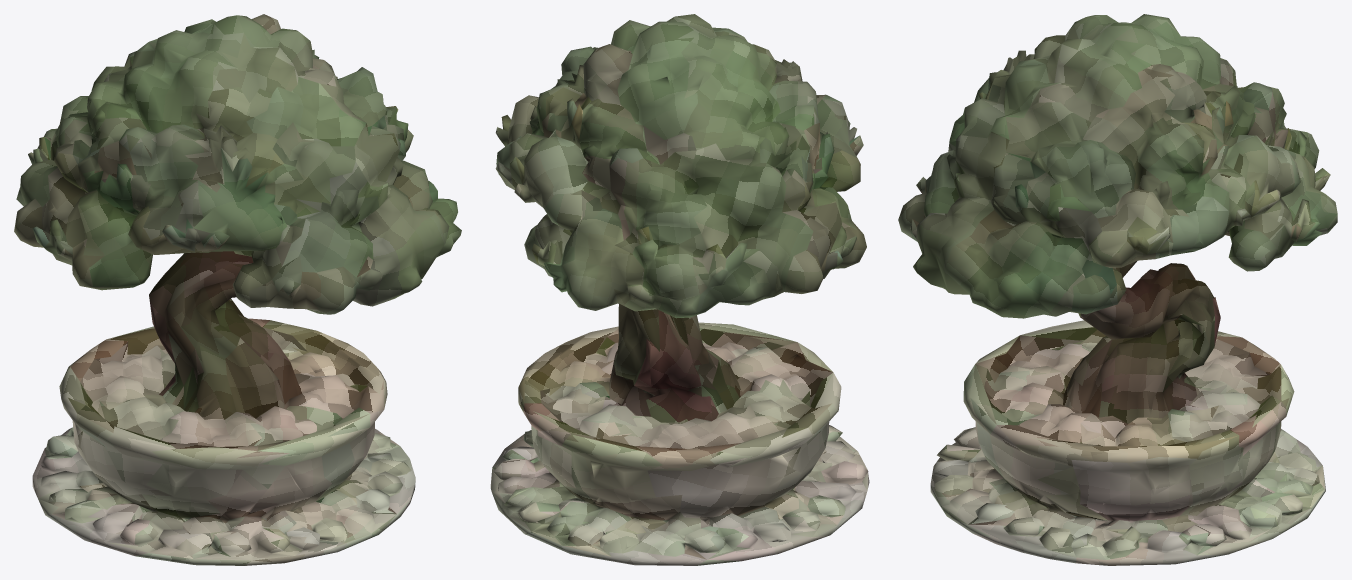
File: JP_사물_s2_deco_bonsai.glb
3 renders of one model, left to right at view 1: azimuth 30°, elevation 25°; view 2: azimuth 150°, elevation 25°; view 3: azimuth 270°, elevation 25°, orthographic.
Parts seen in each view (by area): view 1: tripo_node_19eeb34f-4cbc-457c-a01b-c05eb096a83d; view 2: tripo_node_19eeb34f-4cbc-457c-a01b-c05eb096a83d; view 3: tripo_node_19eeb34f-4cbc-457c-a01b-c05eb096a83d.
Part boxes in pixels (<box>): tripo_node_19eeb34f-4cbc-457c-a01b-c05eb096a83d: <box>14,14,461,565</box>; tripo_node_19eeb34f-4cbc-457c-a01b-c05eb096a83d: <box>490,14,869,565</box>; tripo_node_19eeb34f-4cbc-457c-a01b-c05eb096a83d: <box>898,14,1337,565</box>.
Bounding box in the file's own units: 0.7961 × 1 × 0.8568.
Materials: 1 (1 with a texture image).
